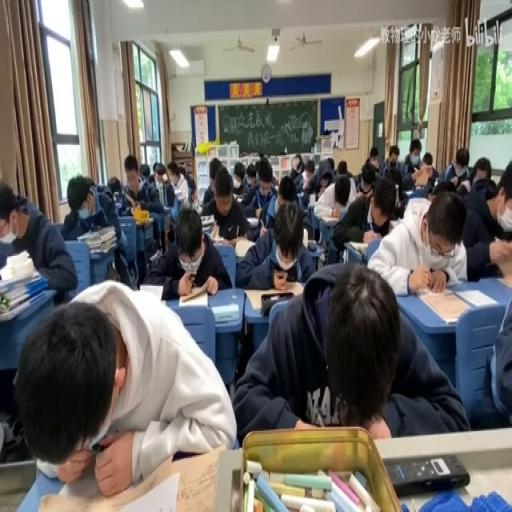calculator: (243, 283, 301, 310), (419, 292, 469, 322), (0, 289, 45, 321), (0, 249, 32, 280), (212, 302, 238, 324), (178, 287, 206, 306), (234, 236, 256, 258), (494, 270, 512, 293), (141, 282, 164, 298), (347, 239, 370, 252), (318, 213, 340, 225), (124, 191, 137, 209), (134, 214, 153, 224), (200, 213, 214, 225), (210, 222, 219, 240), (388, 219, 400, 232), (157, 182, 163, 206), (246, 214, 259, 224), (114, 199, 123, 213), (149, 248, 159, 260), (403, 189, 414, 198), (301, 228, 307, 244), (233, 192, 242, 202)
paper: (21, 279, 233, 495), (230, 258, 460, 440), (369, 186, 468, 293), (0, 179, 77, 310), (64, 170, 134, 288), (146, 206, 230, 299), (234, 195, 314, 284), (468, 273, 510, 431), (459, 155, 511, 279), (118, 155, 162, 220), (235, 160, 262, 214), (380, 151, 406, 206), (406, 152, 436, 198), (304, 154, 334, 198), (163, 160, 189, 208), (443, 145, 471, 188), (202, 156, 224, 208), (354, 154, 376, 192), (275, 174, 295, 204), (261, 156, 277, 186), (430, 179, 458, 196), (289, 154, 305, 182), (334, 179, 350, 206), (473, 156, 490, 180), (106, 176, 122, 200), (186, 172, 196, 203), (297, 189, 310, 212), (371, 202, 384, 223), (394, 198, 404, 218), (138, 164, 150, 180), (410, 139, 422, 155), (302, 170, 312, 188), (336, 161, 347, 175), (253, 158, 260, 179), (370, 148, 378, 163), (326, 155, 334, 169), (152, 162, 159, 176), (178, 164, 186, 176), (258, 150, 266, 160)
person: (385, 452, 470, 494), (307, 240, 318, 250), (412, 185, 426, 192), (314, 192, 318, 201)
